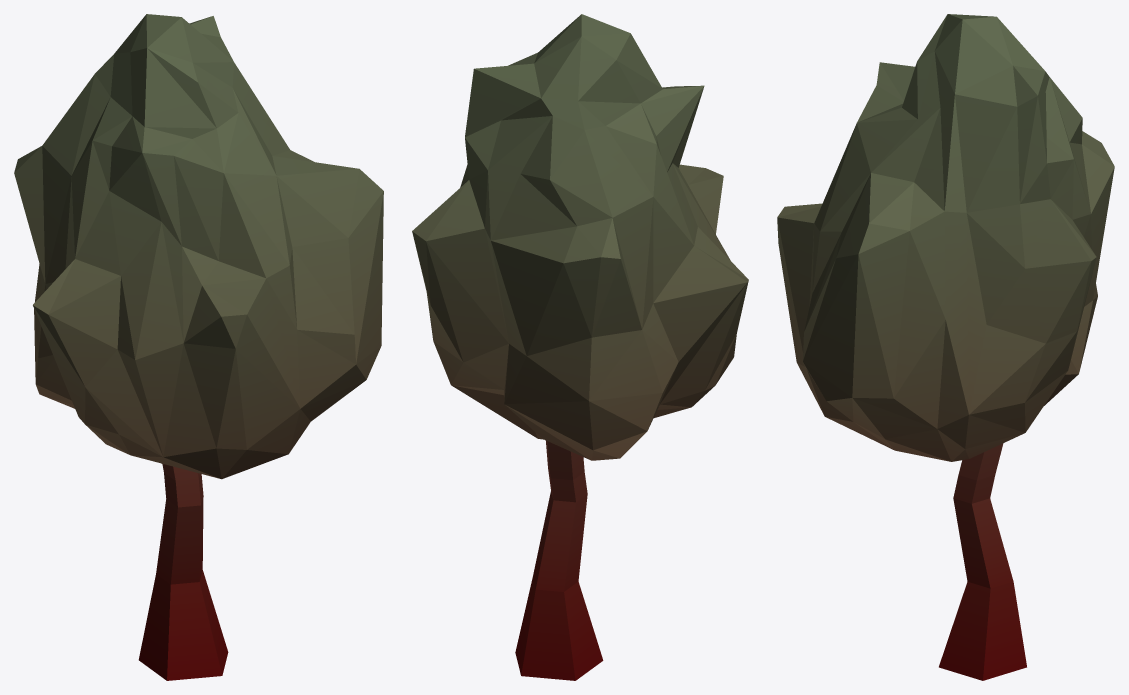
Rendered from synty-tree-02.gltf.
3 views of the same model, side by side, from view 1: azimuth 30°, elevation 25°; view 2: azimuth 150°, elevation 25°; view 3: azimuth 270°, elevation 25° (orthographic). The views are drawn at different scales.
Parts seen in each view (by area): view 1: SM_Tree_02; view 2: SM_Tree_02; view 3: SM_Tree_02.
Boxes of the visible parts, x1,y1,x2,y2 form: SM_Tree_02: (14,14,383,680); SM_Tree_02: (412,14,748,680); SM_Tree_02: (777,14,1114,680).
Bounding box in the file's own units: 3.06 × 6.25 × 3.01.
1 material, 1 textured.
